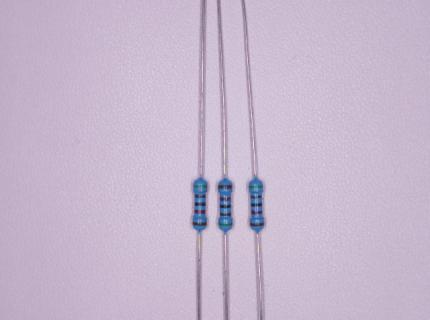Black band: (194, 202, 205, 206), (220, 205, 231, 209), (251, 203, 262, 207)
Brown band: (218, 185, 233, 189), (193, 222, 207, 226), (220, 212, 231, 216), (250, 223, 264, 226), (195, 195, 206, 198), (251, 196, 262, 199)
Green band: (194, 185, 207, 188), (219, 223, 232, 226), (249, 186, 263, 188)
Red band: (251, 210, 263, 214), (195, 210, 206, 214), (220, 198, 231, 201)
